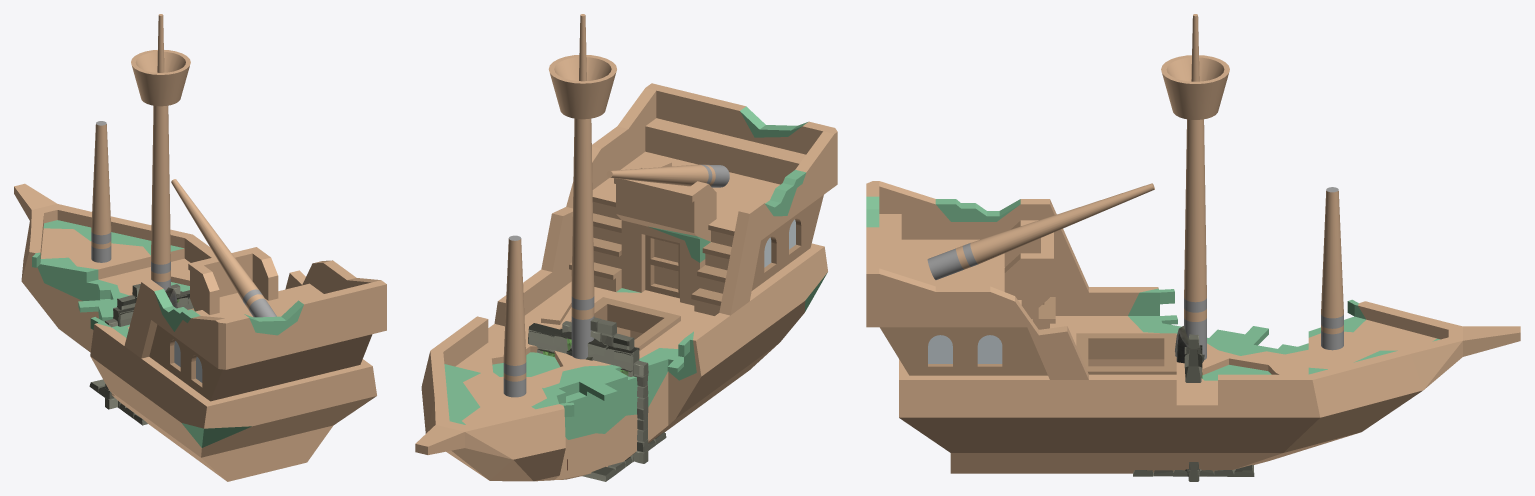
Rendered from landmarks.glb.
3 renders of one model, left to right at view 1: azimuth 30°, elevation 25°; view 2: azimuth 150°, elevation 25°; view 3: azimuth 270°, elevation 25°, orthographic. The views are drawn at different scales.
Visible parts, largest first — view 1: Wreck_Ship_mesh, Ruin_Arch_Broken_mesh; view 2: Wreck_Ship_mesh, Ruin_Arch_Broken_mesh, Ruin_Wall_Hole_mesh, Ruin_Wall_Overgrown_mesh, Ruin_Floor_mesh; view 3: Wreck_Ship_mesh, Ruin_Floor_mesh.
Boxes of the visible parts, x1,y1,x2,y2 form: Wreck_Ship_mesh: (14, 14, 386, 481); Ruin_Arch_Broken_mesh: (105, 284, 180, 409); Wreck_Ship_mesh: (415, 14, 837, 481); Ruin_Arch_Broken_mesh: (562, 317, 648, 463); Ruin_Wall_Hole_mesh: (528, 323, 639, 462); Ruin_Wall_Overgrown_mesh: (529, 331, 639, 375); Ruin_Floor_mesh: (582, 432, 666, 481); Wreck_Ship_mesh: (866, 14, 1520, 473); Ruin_Floor_mesh: (1133, 465, 1254, 476).
Bounding box in the file's own units: 5.7 × 11.84 × 16.1.
14 materials, 2 textured.
